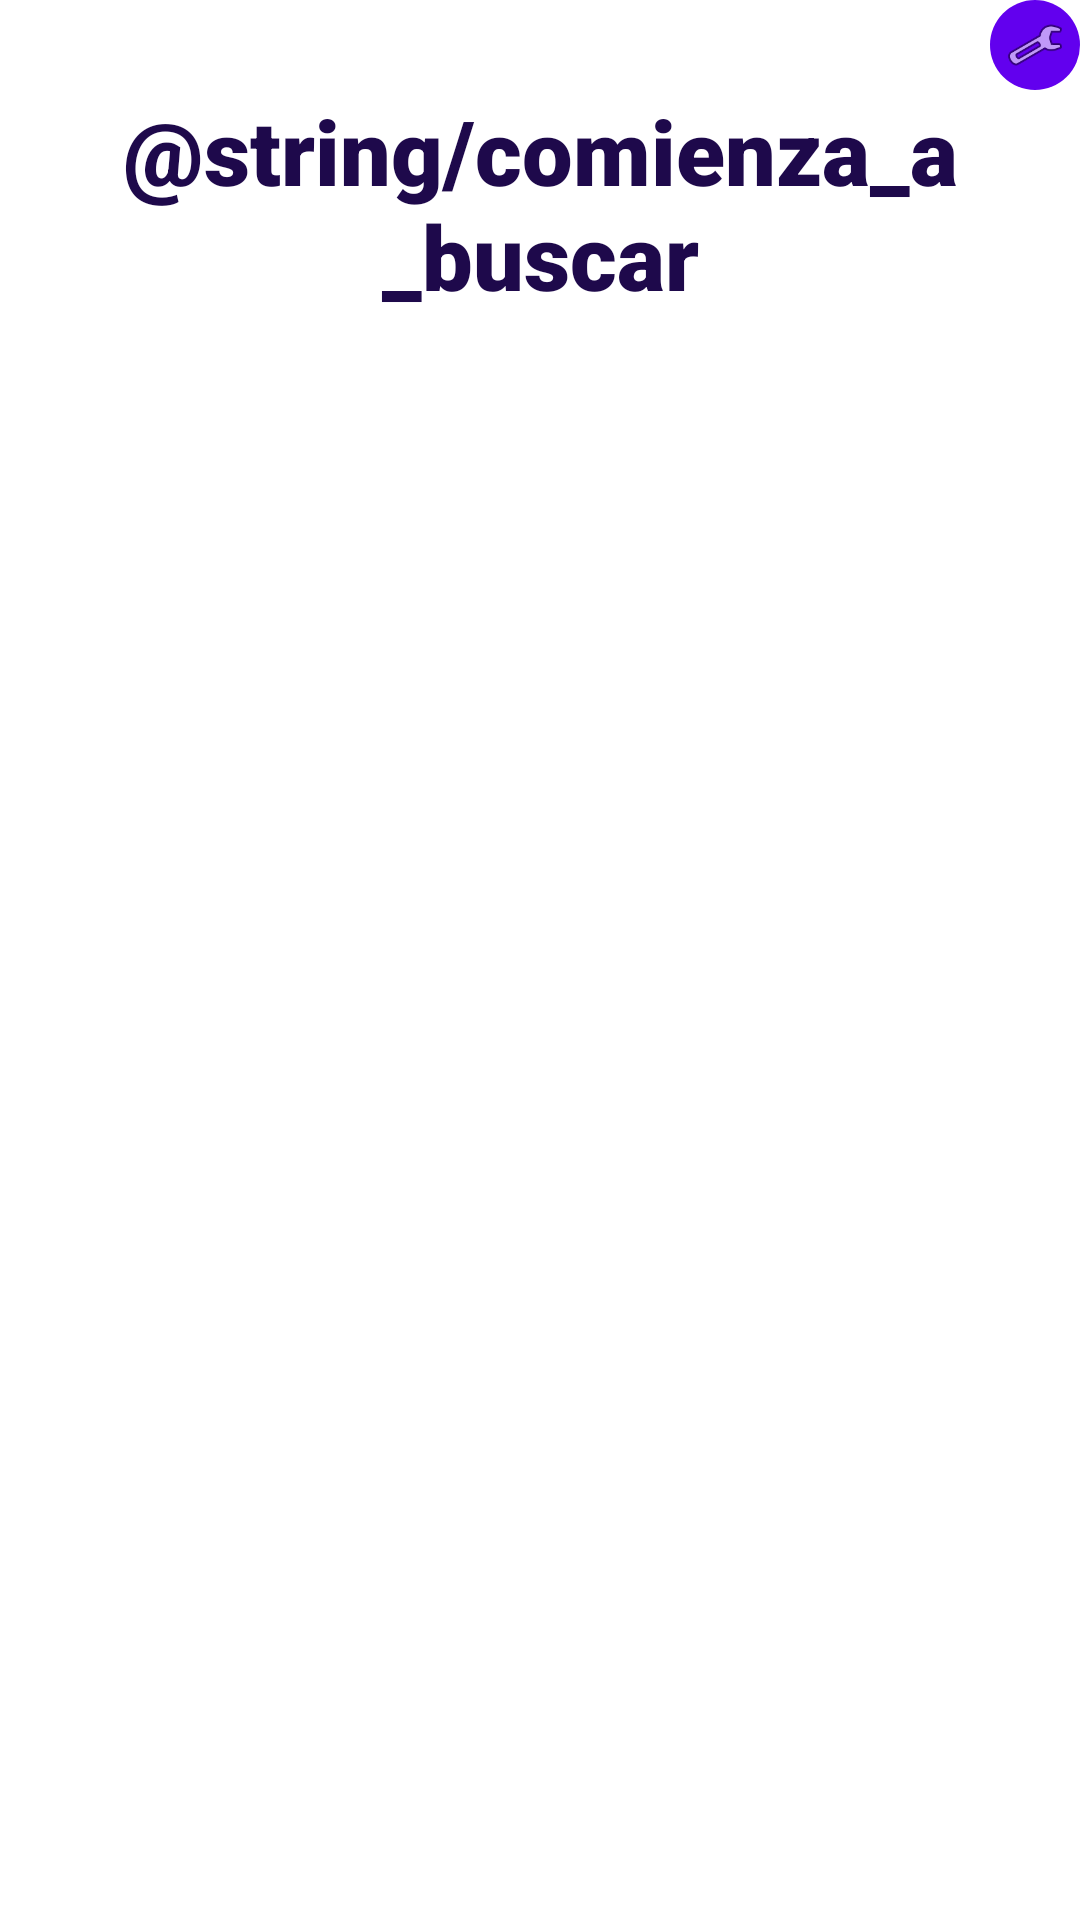

Icons on this 1080*1920 Android screen, each with its box as (x1,y1,x2,y2):
preferences: (990,0,1080,90)
